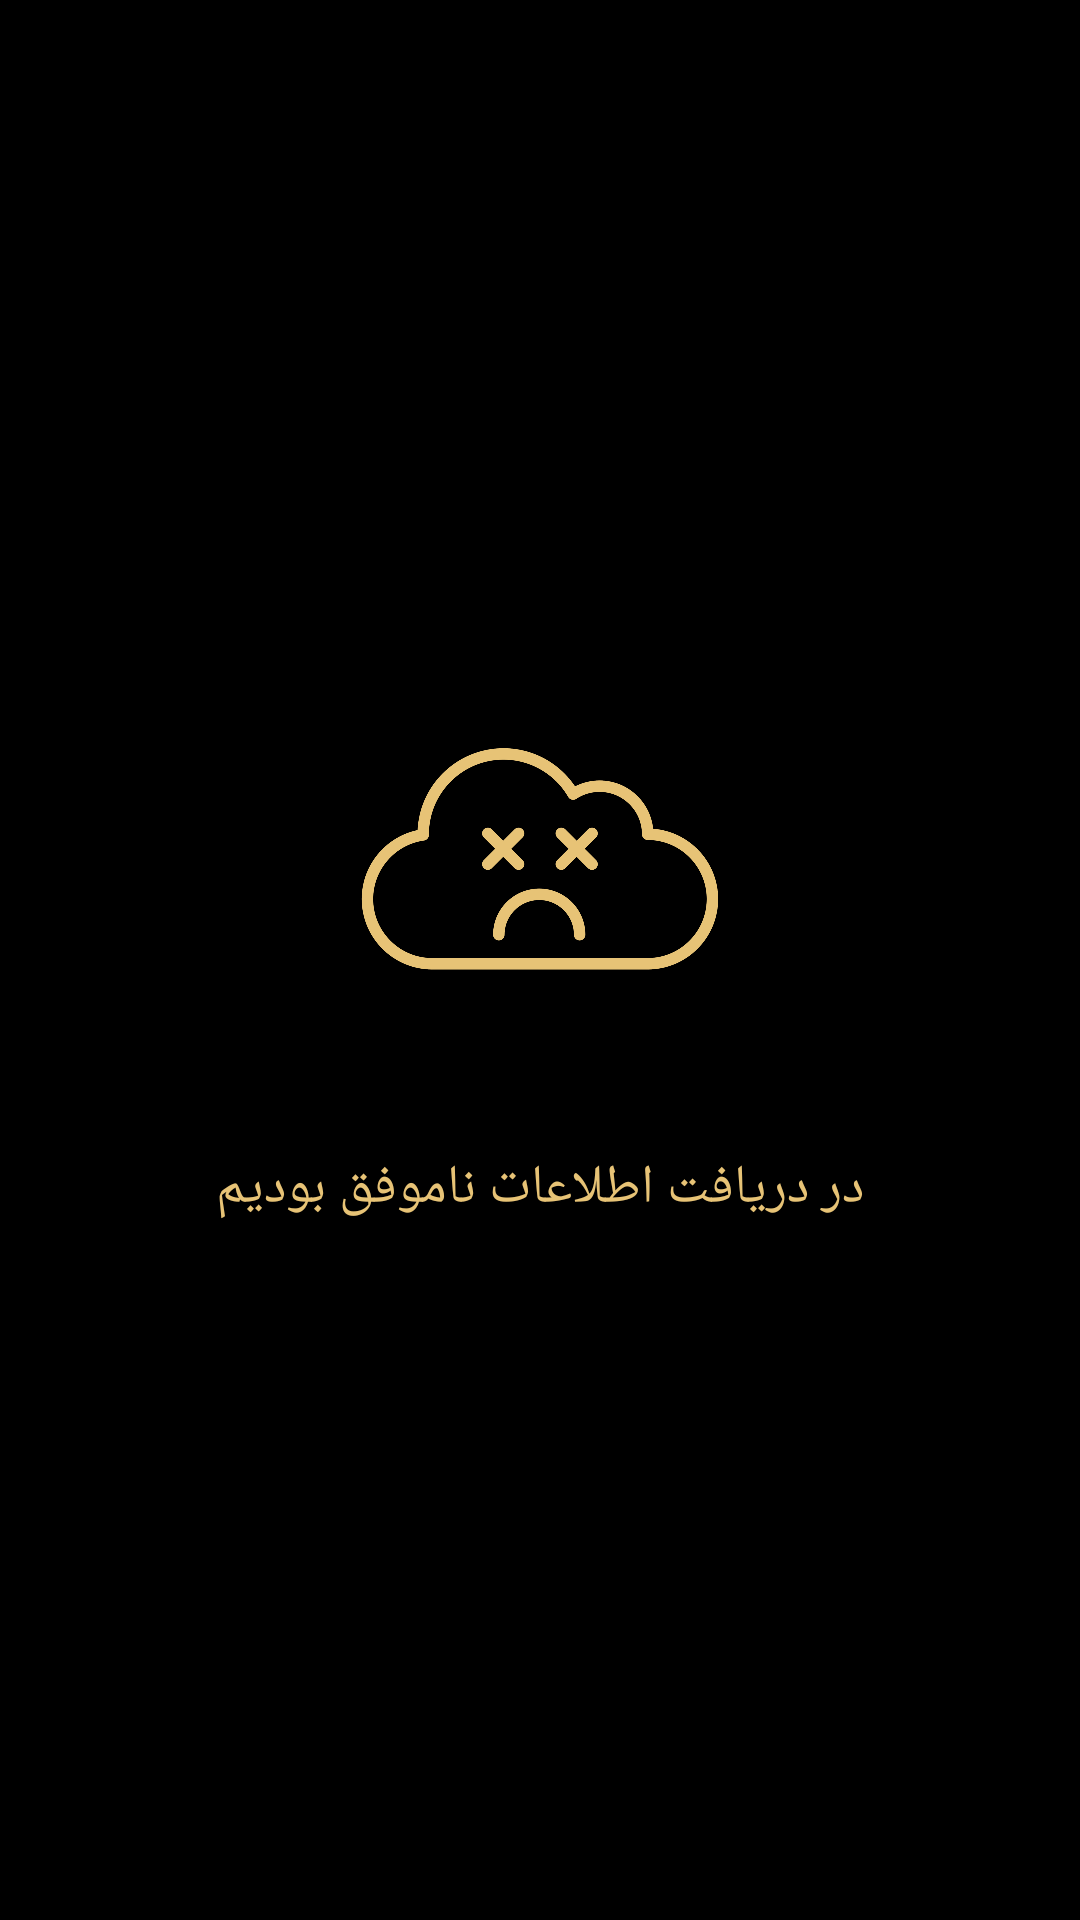

Icon click points for this 1080 × 1920 phone screenshot, format [x,y]:
sad could: [539,859]
